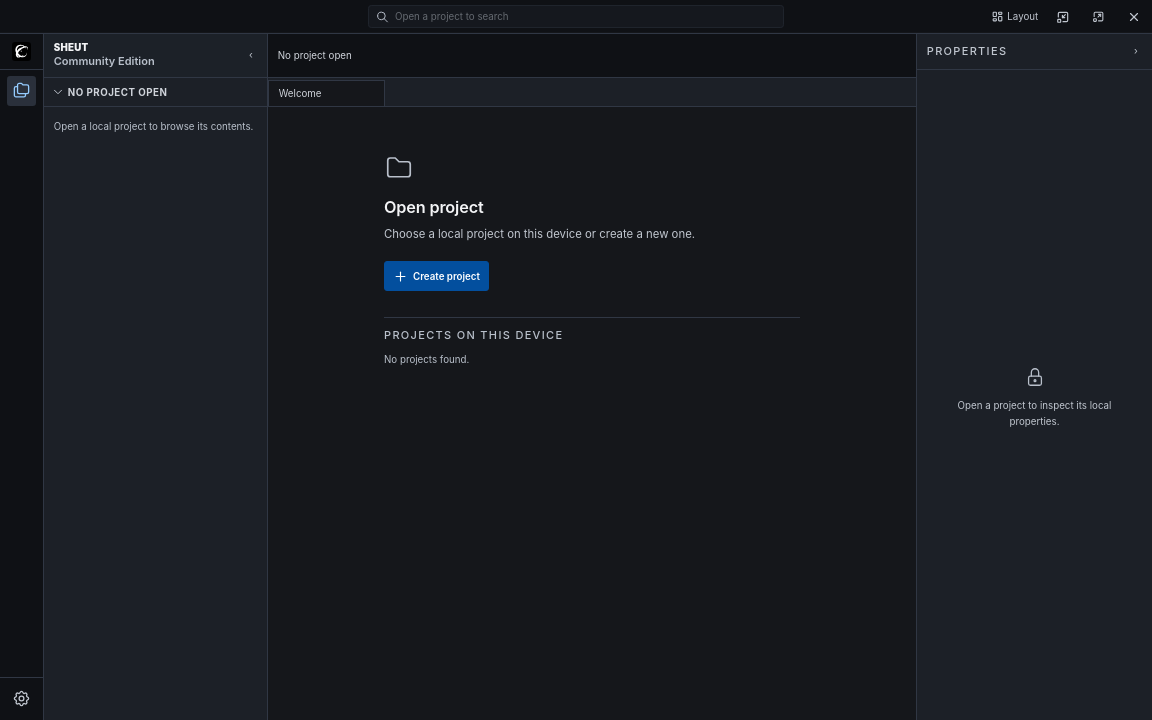
App › creates an encrypted project from an accessible Base UI dialog
Click the button "Create project": (437, 276) 384,261 -> 489,291
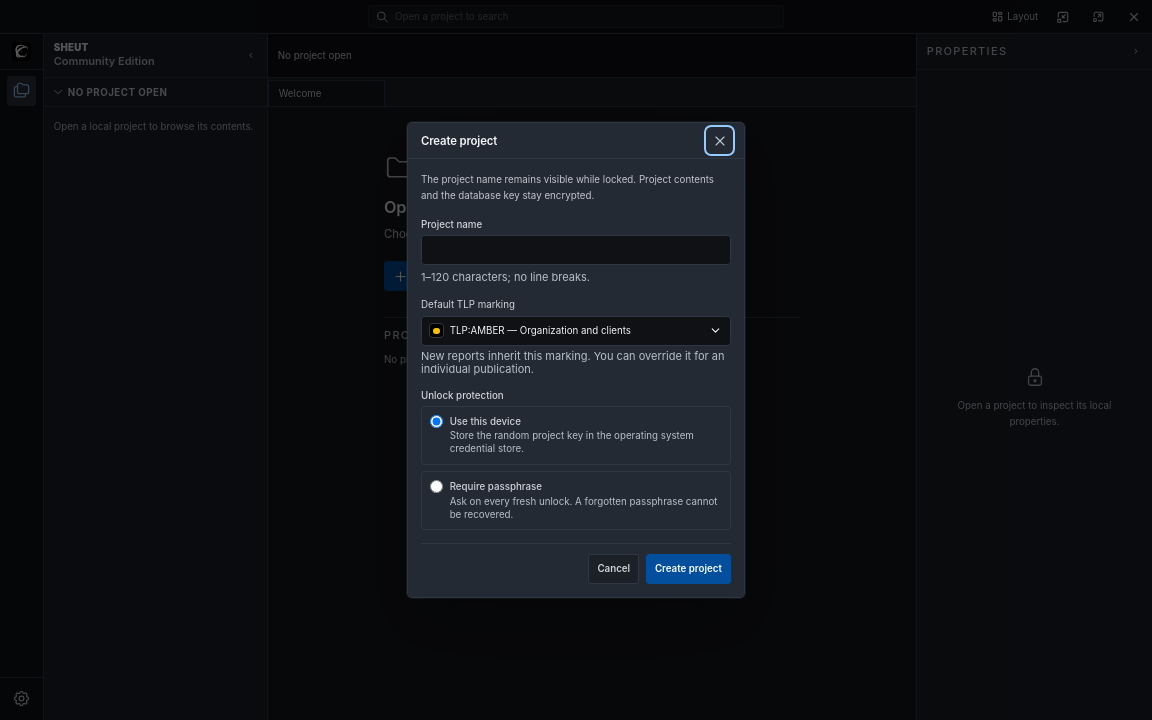
In the field labelled "Project name": (576, 250) 421,235 -> 731,265, type "Operation Shadow"
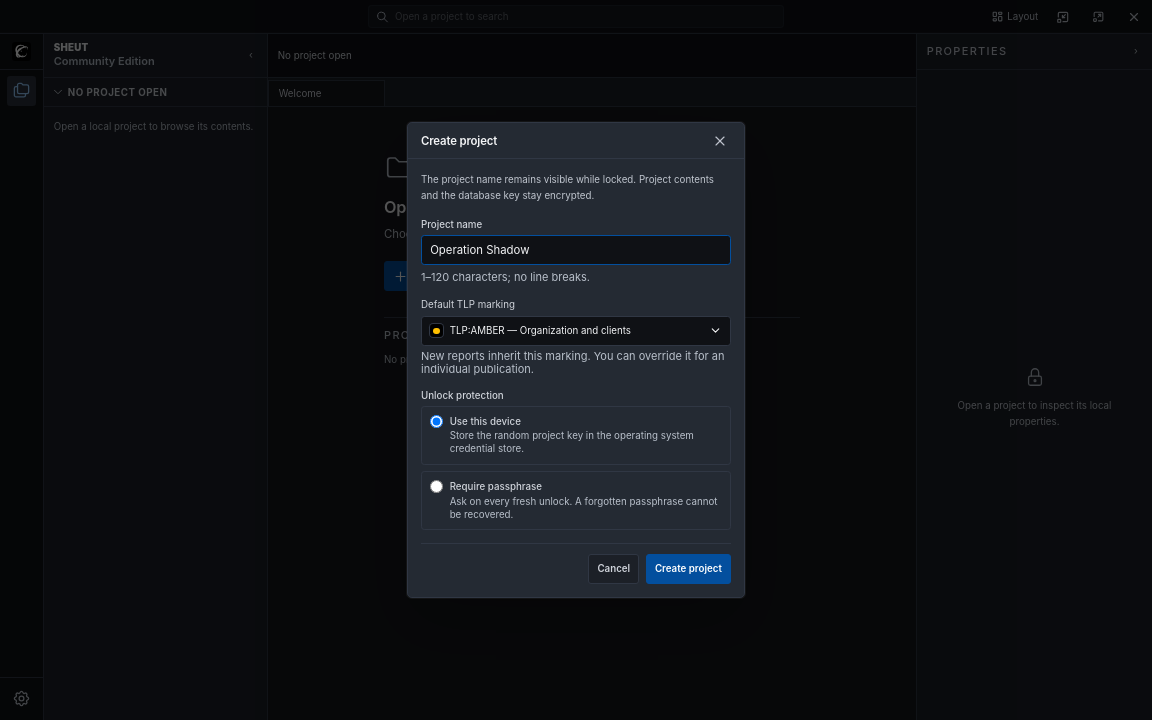
Click the button "Create project": (688, 569) 646,554 -> 731,584
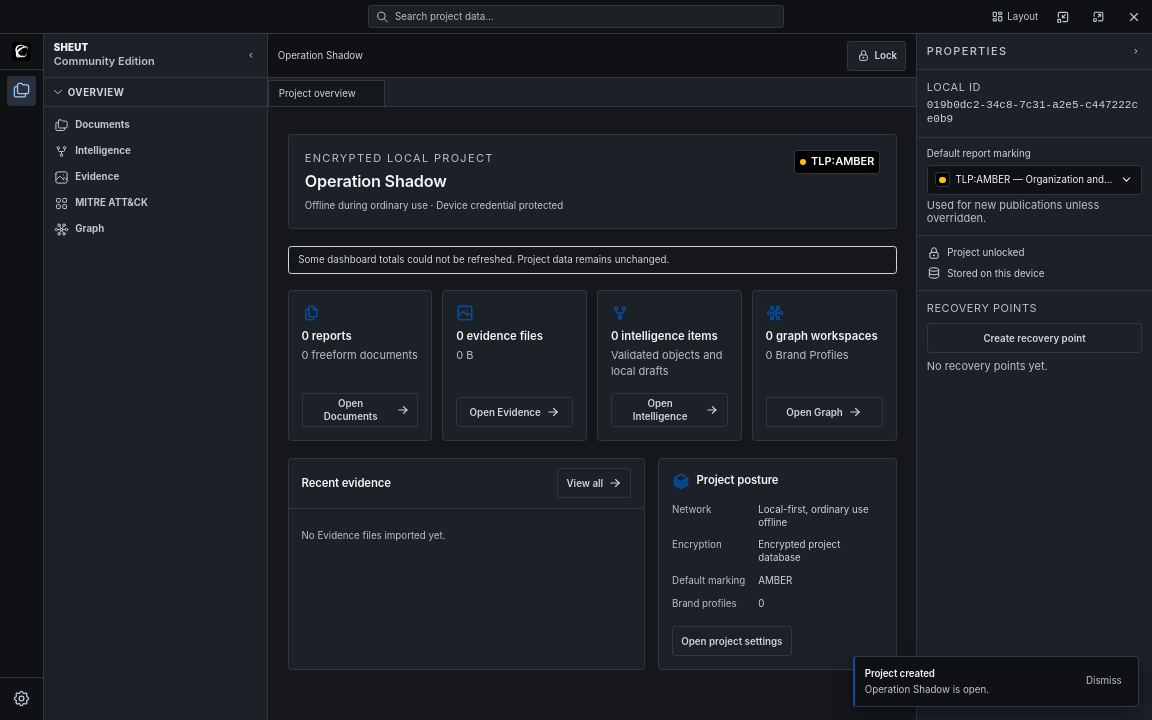
Now the text "Operation Shadow" is shown, box 278,49 -> 363,62
Now the element named "Inspector" shows "019b0dc2-34c8-7c31-a2e5-c447222ce0b9", box 927,99 -> 1138,125
Now the element named "Inspector" shows "TLP:AMBER"
Click the dropdown named "Project default TLP marking": (1035, 180) 927,165 -> 1142,195
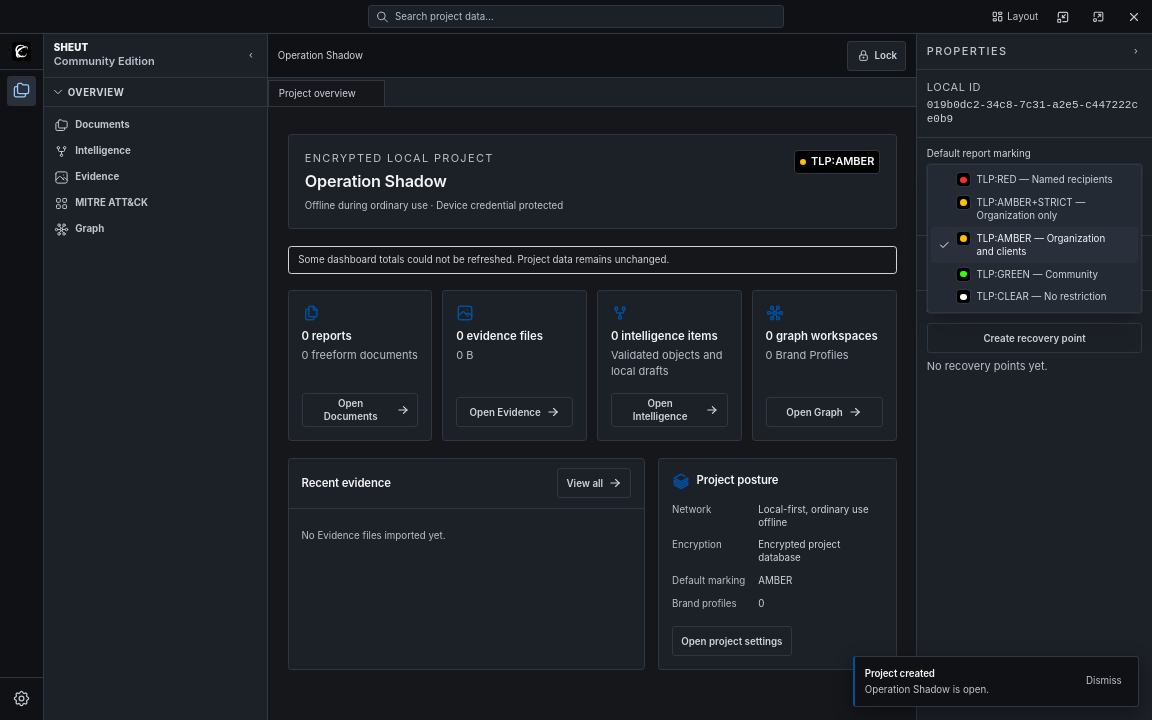
Click the option "TLP:RED — Named recipients": (1035, 180) 957,174 -> 1113,186
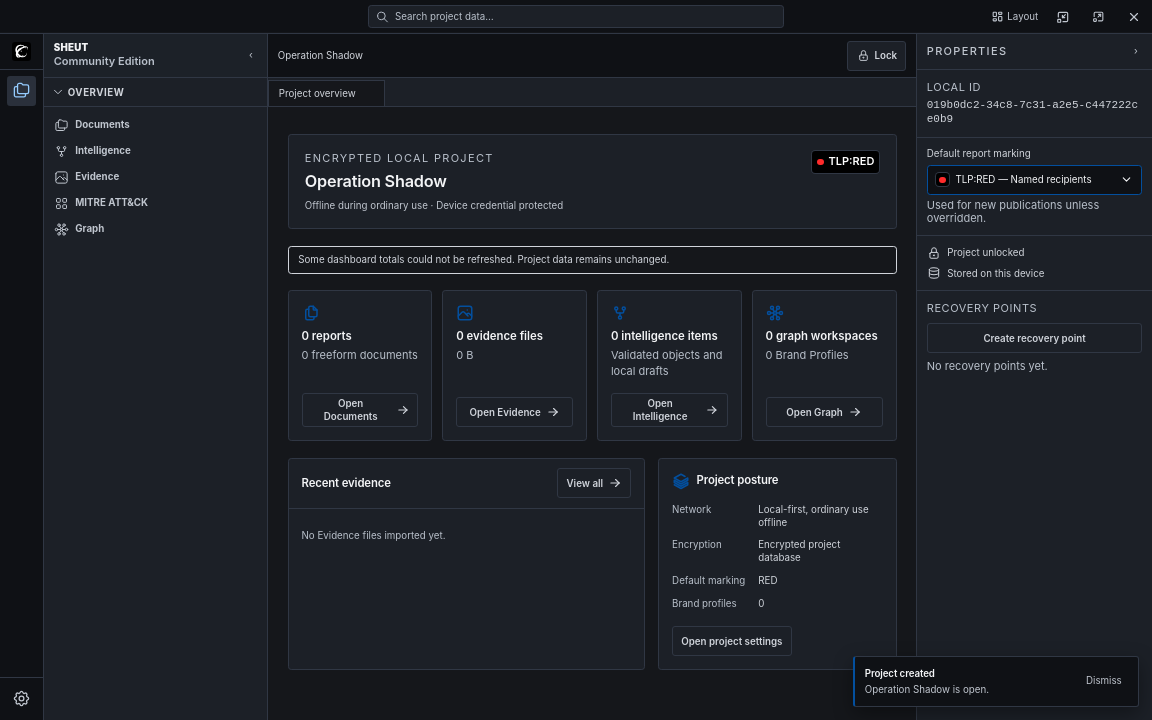
Now the button "Lock" is enabled, box 847,40 -> 906,70
Now the dialog "Project created" is shown, box 853,656 -> 1139,707
Now the element named "Inspector" shows "TLP:RED", box 927,165 -> 1142,195
